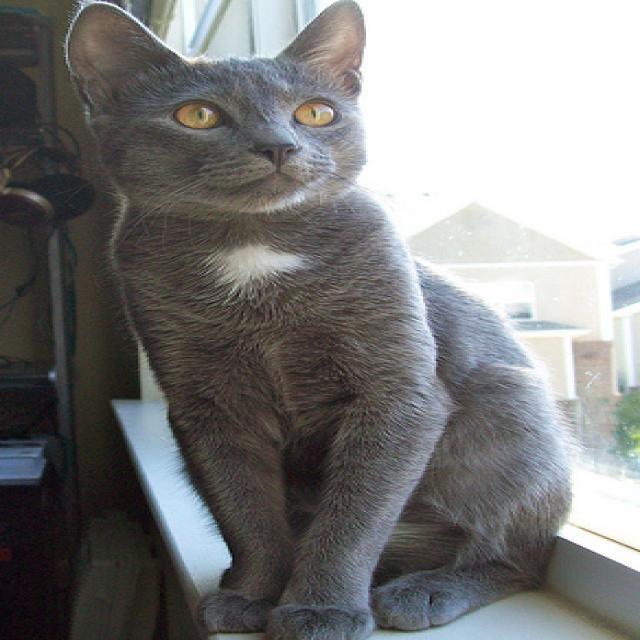Russian Blue: (62, 0, 574, 640)
